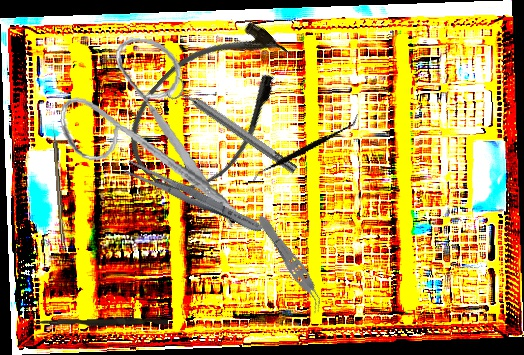Cannula: (106, 0, 316, 213)
Dressing Forceps: (122, 157, 266, 238)
Fixation Ring: (165, 75, 302, 182)
Hook Surgical: (51, 123, 66, 244)
Iris Scissors: (48, 29, 270, 229)
Pusher: (34, 315, 169, 330)
Spatula Surgical: (250, 84, 360, 212)
Tissue Forceps: (251, 210, 331, 316)
